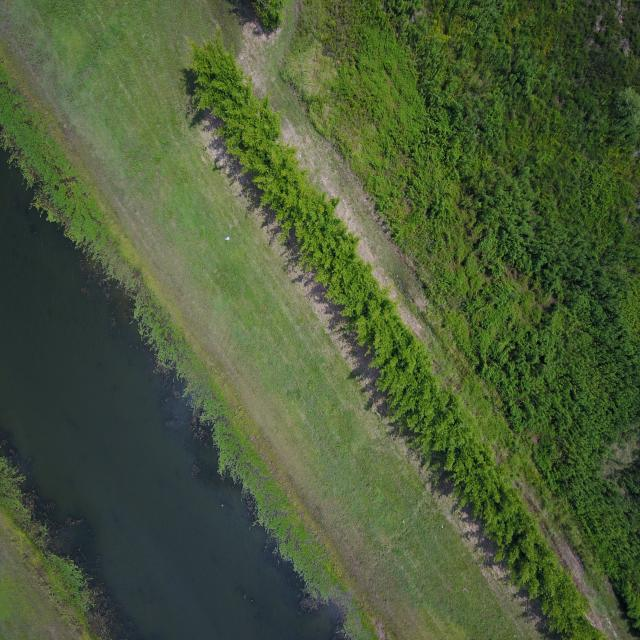fire: (0, 148, 339, 639)
